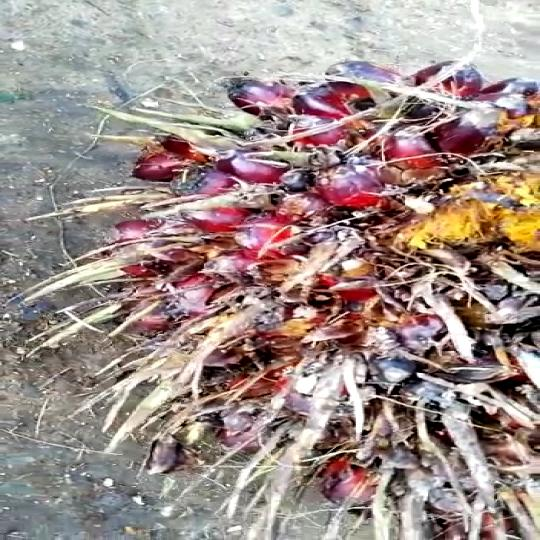terlalu masak: (124, 63, 540, 537)
